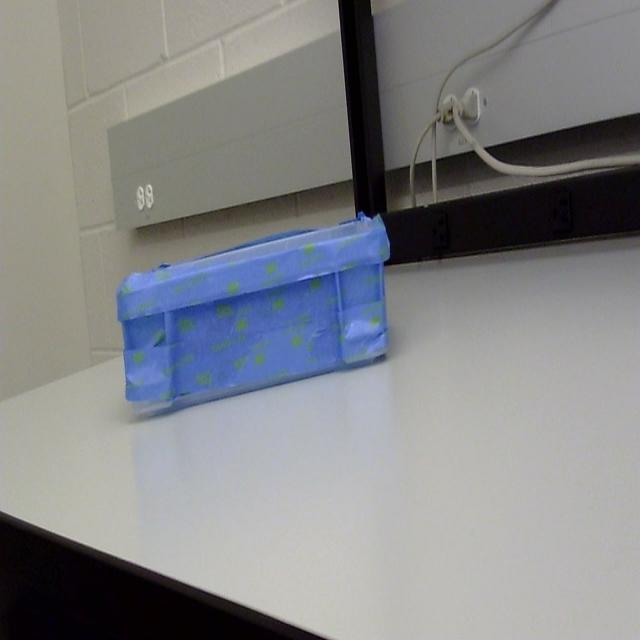bucket: (116, 218, 390, 420)
